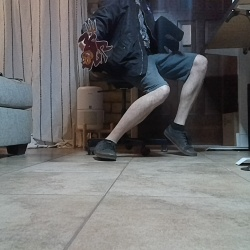sparky: (76, 17, 113, 71)
